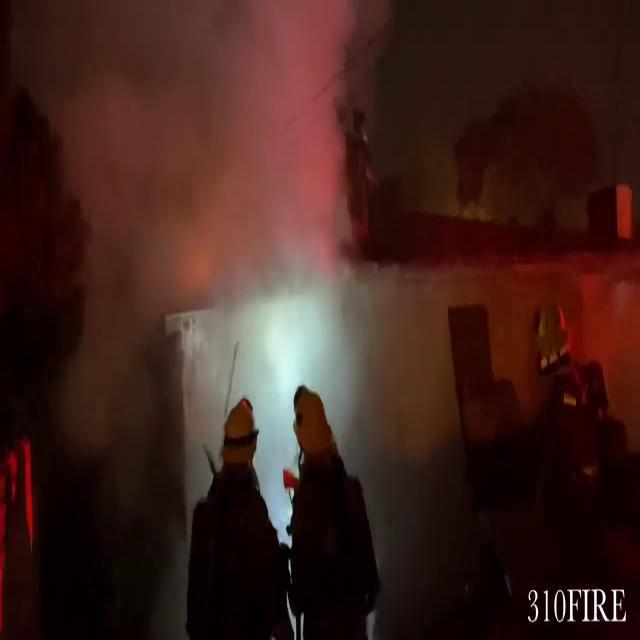Smoke: (4, 0, 394, 361)
